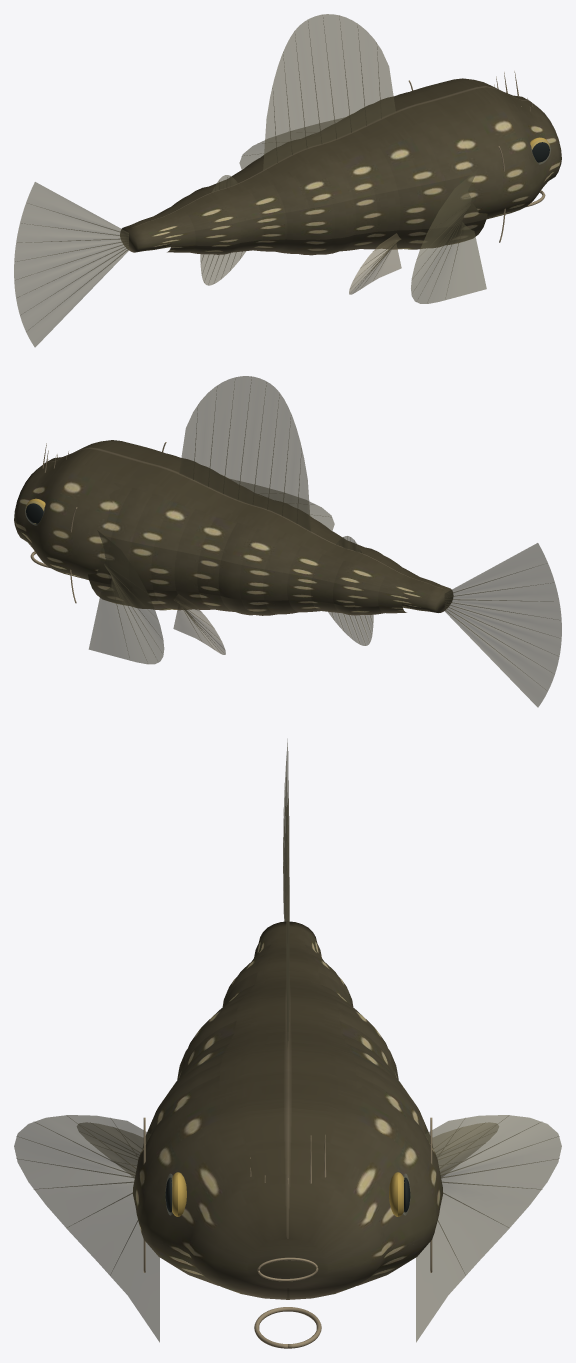
Rendered from ancistrus-mobile.glb.
3 views of the same model, one above another, from view 1: azimuth 30°, elevation 25°; view 2: azimuth 150°, elevation 25°; view 3: azimuth 270°, elevation 25° (orthographic). The views are drawn at different scales.
Visible parts, largest first — view 1: skin, dorsal, tail, pectoral-left, dorsal-ray, pelvic-left, anal; view 2: skin, dorsal, tail, pectoral-left, dorsal-ray, pelvic-left, anal; view 3: skin, pectoral-left, pelvic-left, operculum, dorsal-ray, eye-iris--1, dorsal, tail.
Part boxes in pixels (box(x1,y1,x2,y2)): skin: box(120, 78, 561, 255); dorsal: box(212, 14, 395, 192); tail: box(14, 182, 128, 347); pectoral-left: box(239, 118, 486, 303); dorsal-ray: box(15, 16, 470, 328); pelvic-left: box(349, 233, 401, 294); anal: box(200, 251, 245, 285); skin: box(14, 440, 453, 615); dorsal: box(179, 376, 361, 552); tail: box(444, 543, 561, 707); pectoral-left: box(89, 479, 334, 664); dorsal-ray: box(104, 379, 553, 674); pelvic-left: box(173, 594, 225, 654); anal: box(328, 612, 373, 645); skin: box(132, 921, 443, 1299); pectoral-left: box(14, 1115, 561, 1342); pelvic-left: box(77, 1122, 498, 1176); operculum: box(143, 1117, 432, 1348); dorsal-ray: box(16, 783, 559, 1264); eye-iris--1: box(171, 1172, 404, 1216); dorsal: box(286, 803, 289, 1046); tail: box(283, 739, 289, 921).
Size of the model in its own units: 0.6092 by 0.2986 by 0.3364.
Materials: 11 (1 with a texture image).
